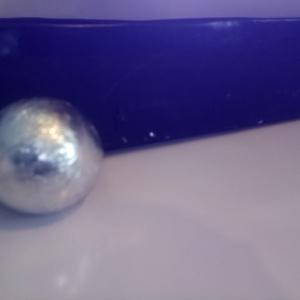zone: (1, 17, 300, 165)
